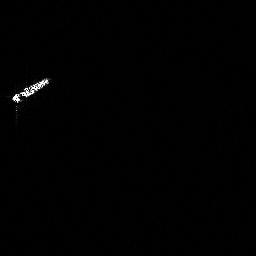ship: (9, 75, 51, 104)
